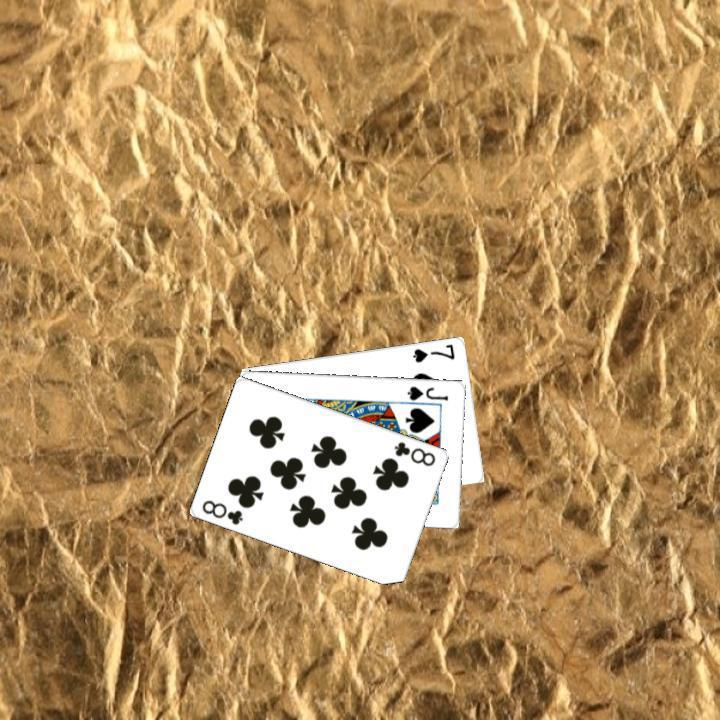7: (409, 339, 457, 364)
8: (198, 495, 246, 527), (390, 437, 438, 468)
J: (403, 381, 450, 402)
